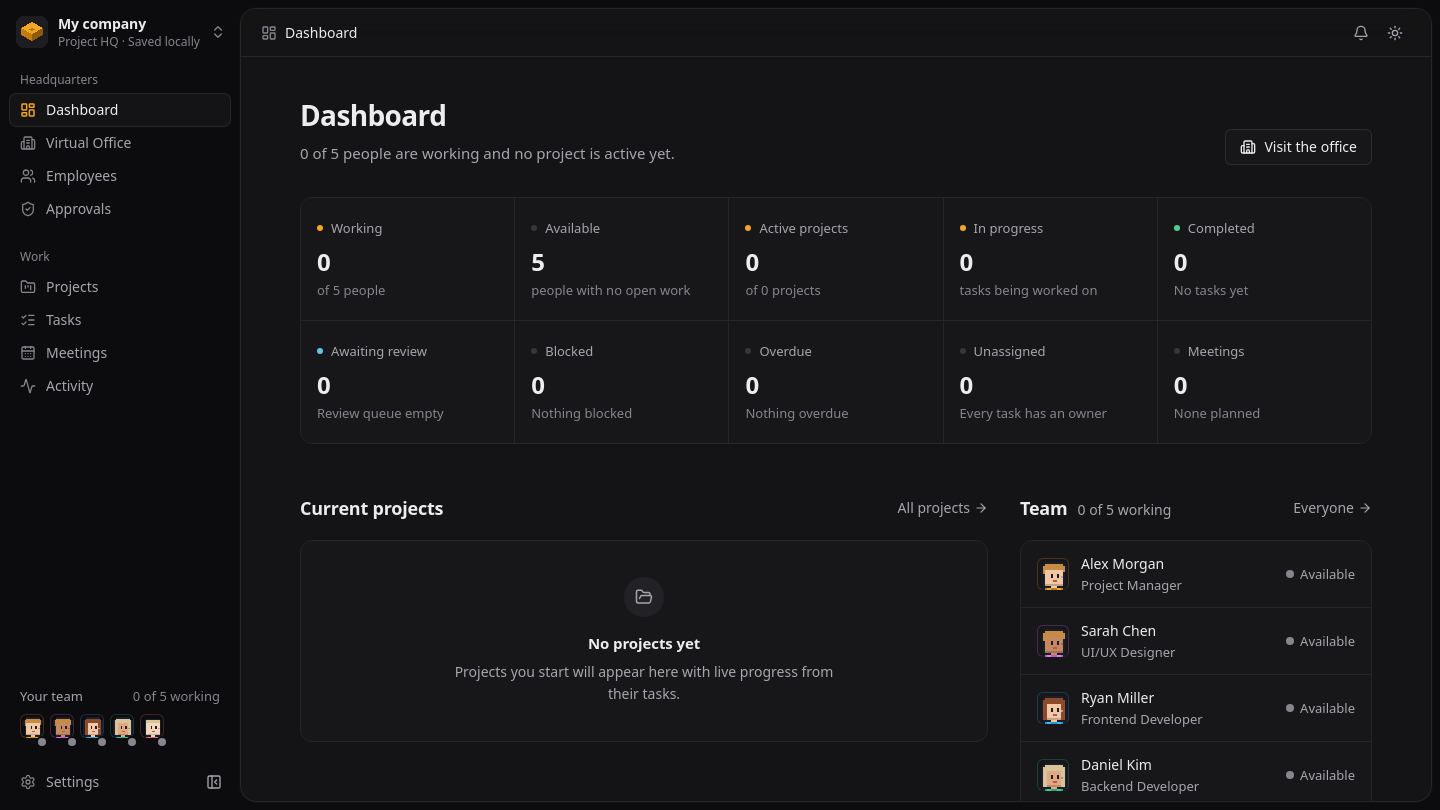
Test: application shell › opens the workspace menu with keyboard support
The width and height of the screenshot is (1440, 810).
Step 1. Press ArrowDown in the button with aria-label "Workspace menu", box [10,8,232,56]
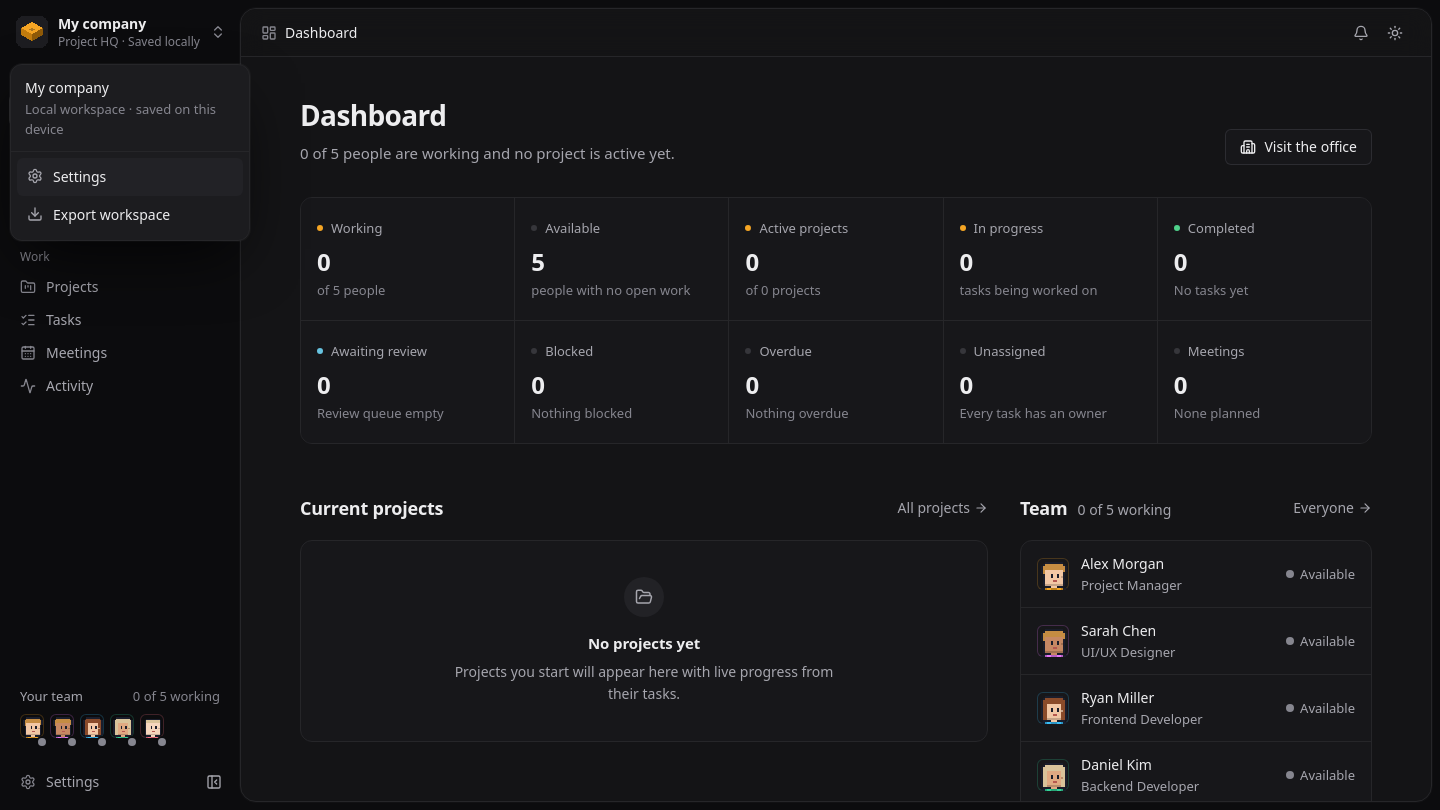
Step 2. Press ArrowDown in the menu named "Workspace menu", box [11,152,249,240]
Step 3. Click the menu item "Settings" → (130, 177), box [17,158,243,196]
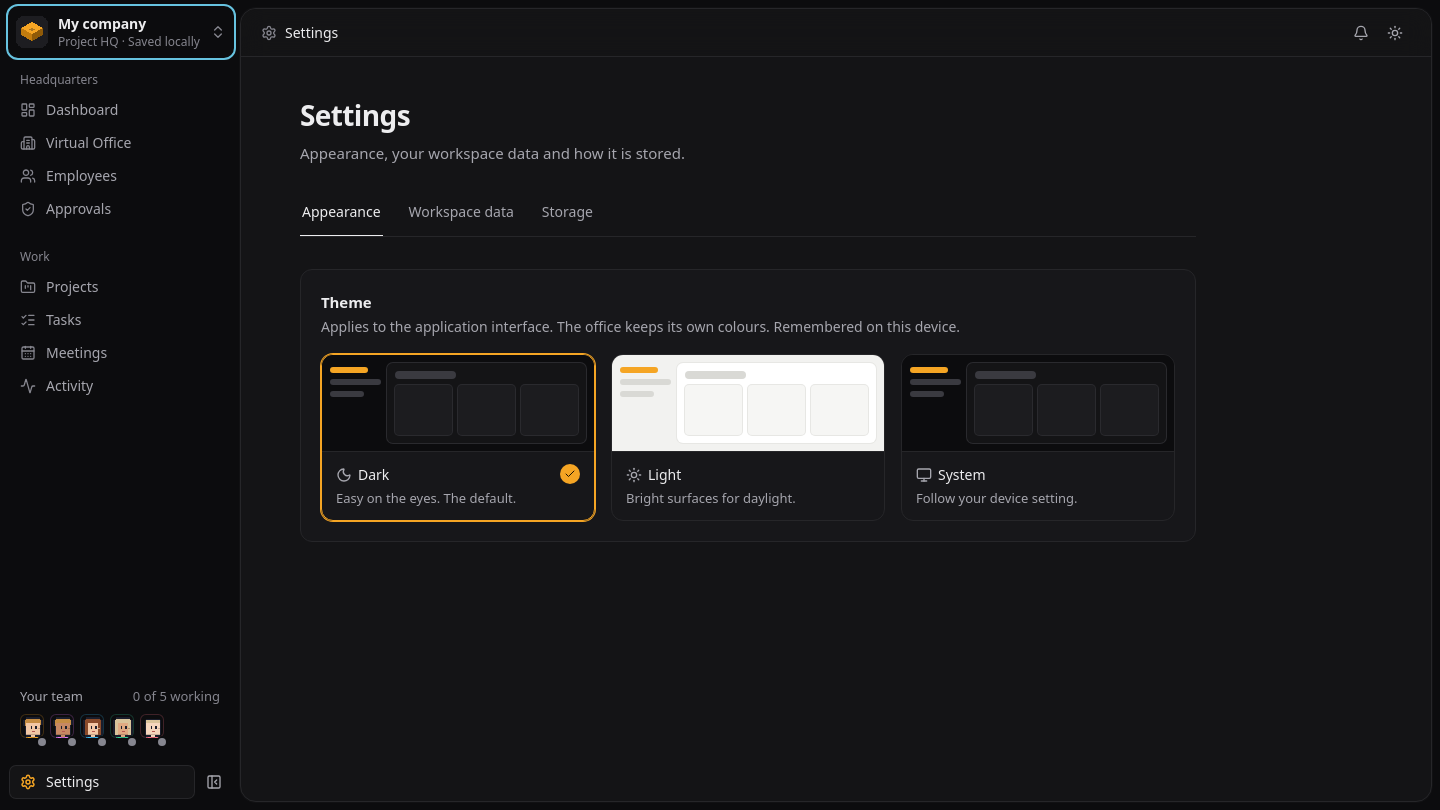
expect the heading "Settings" is shown: met, box [300,96,410,134]
